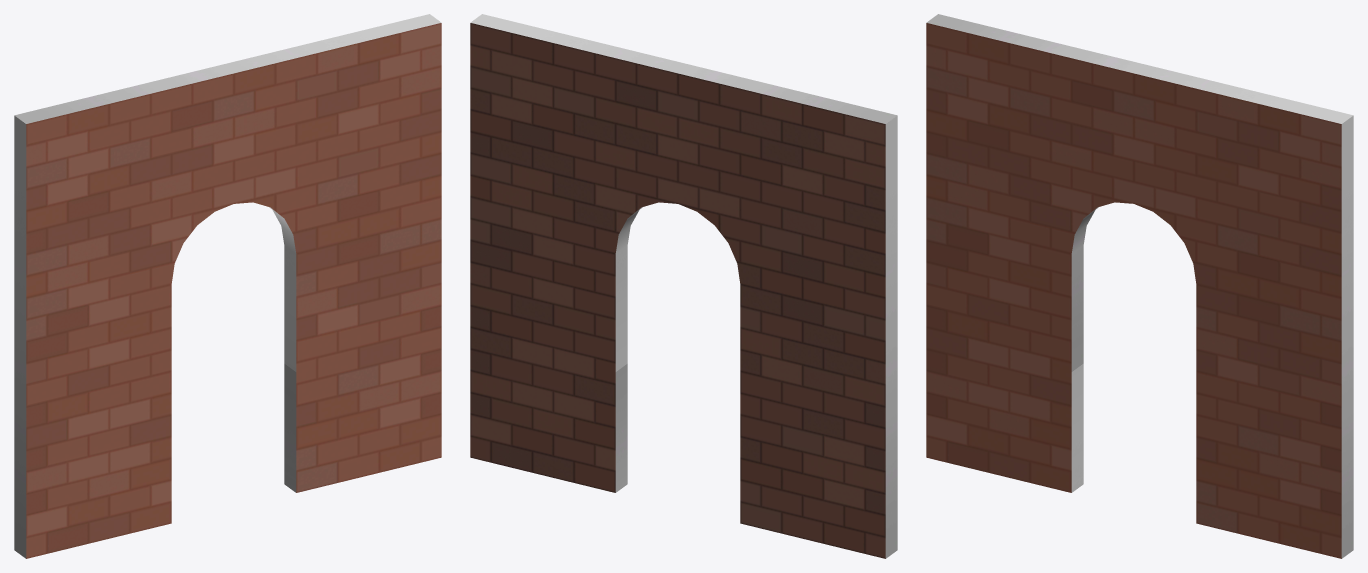
File: Wall_10.glb
The picture shows the model from 3 angles, left to right: view 1: azimuth 30°, elevation 25°; view 2: azimuth 150°, elevation 25°; view 3: azimuth 330°, elevation 25°; orthographic projection.
Visible parts, largest first — view 1: Wall_10; view 2: Wall_10; view 3: Wall_10.
Part boxes in pixels (bbox=[...]): Wall_10: bbox=[14, 14, 441, 558]; Wall_10: bbox=[470, 14, 897, 558]; Wall_10: bbox=[926, 14, 1353, 558].
Bounding box in the file's own units: 4 × 4 × 0.2.
3 materials, 3 textured.
